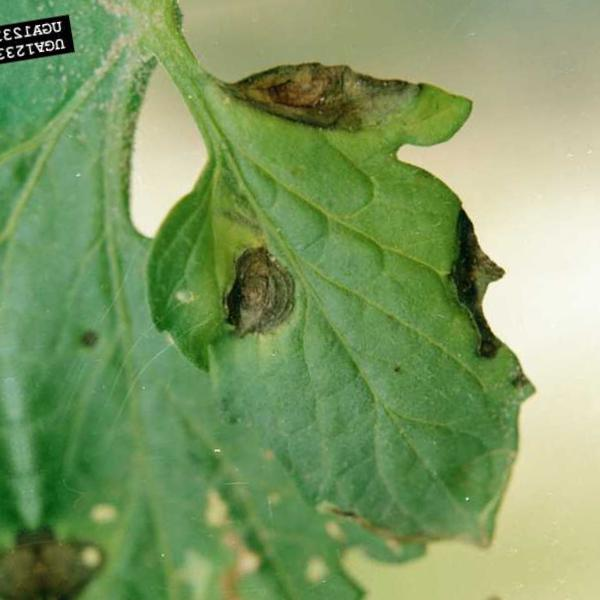Tomato leaf late blight: (70, 0, 574, 600)
